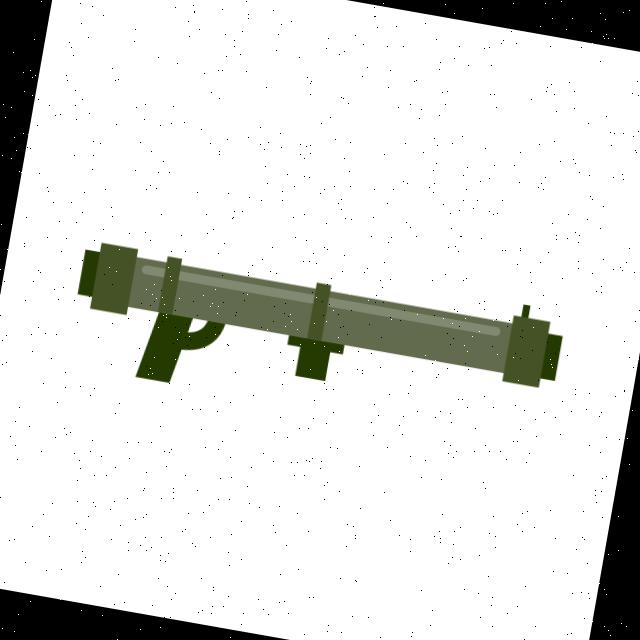Bazooka: (57, 227, 570, 451)
